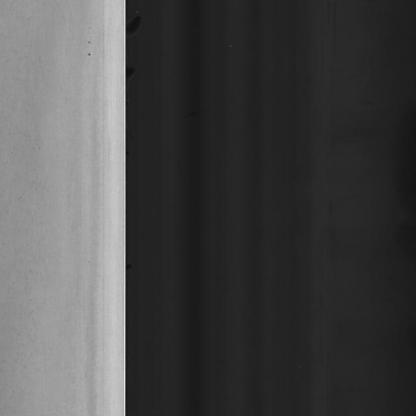inclusion: (85, 24, 94, 59)
silk_spot: (0, 5, 51, 404)
